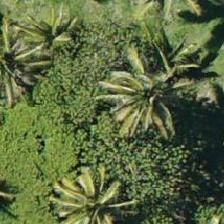coconut_tree: (91, 50, 181, 140), (44, 151, 134, 223), (0, 9, 66, 99)
